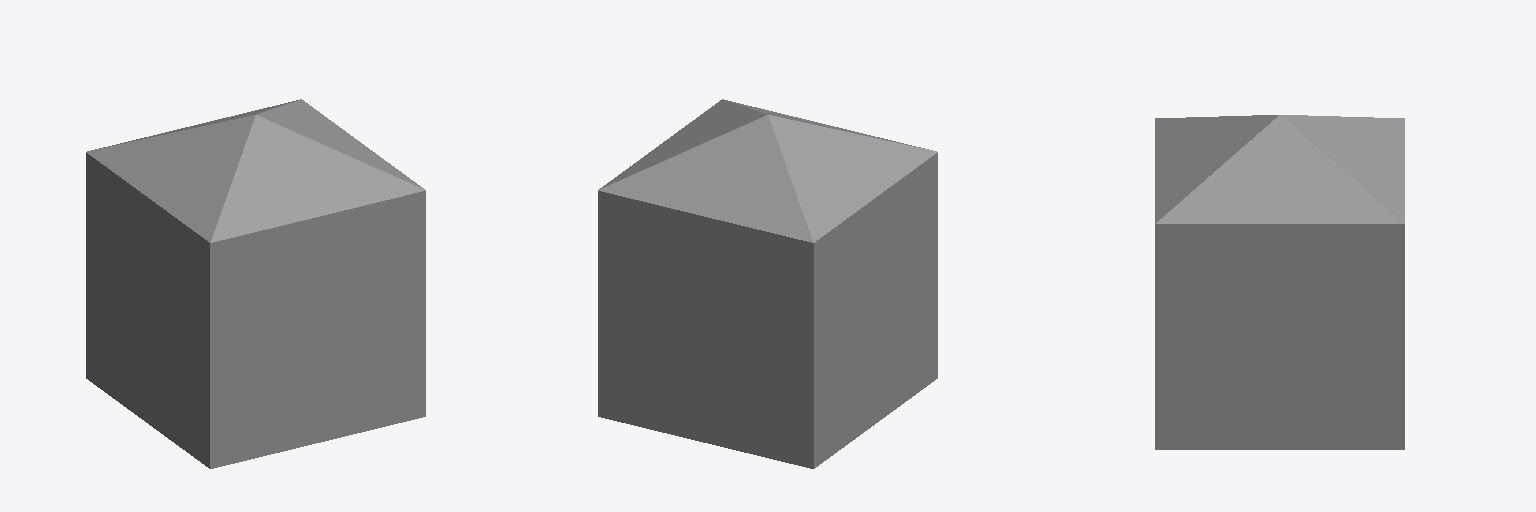
Rendered from robot.obj.
3 renders of one model, left to right at view 1: azimuth 30°, elevation 25°; view 2: azimuth 150°, elevation 25°; view 3: azimuth 270°, elevation 25°, orthographic.
Visible parts, largest first — view 1: Cube_Robot; view 2: Cube_Robot; view 3: Cube_Robot.
Boxes of the visible parts, x1,y1,x2,y2 form: Cube_Robot: [86, 99, 425, 468]; Cube_Robot: [598, 99, 937, 468]; Cube_Robot: [1155, 115, 1404, 449].
Bounding box in the file's own units: 2 × 2.5 × 2.